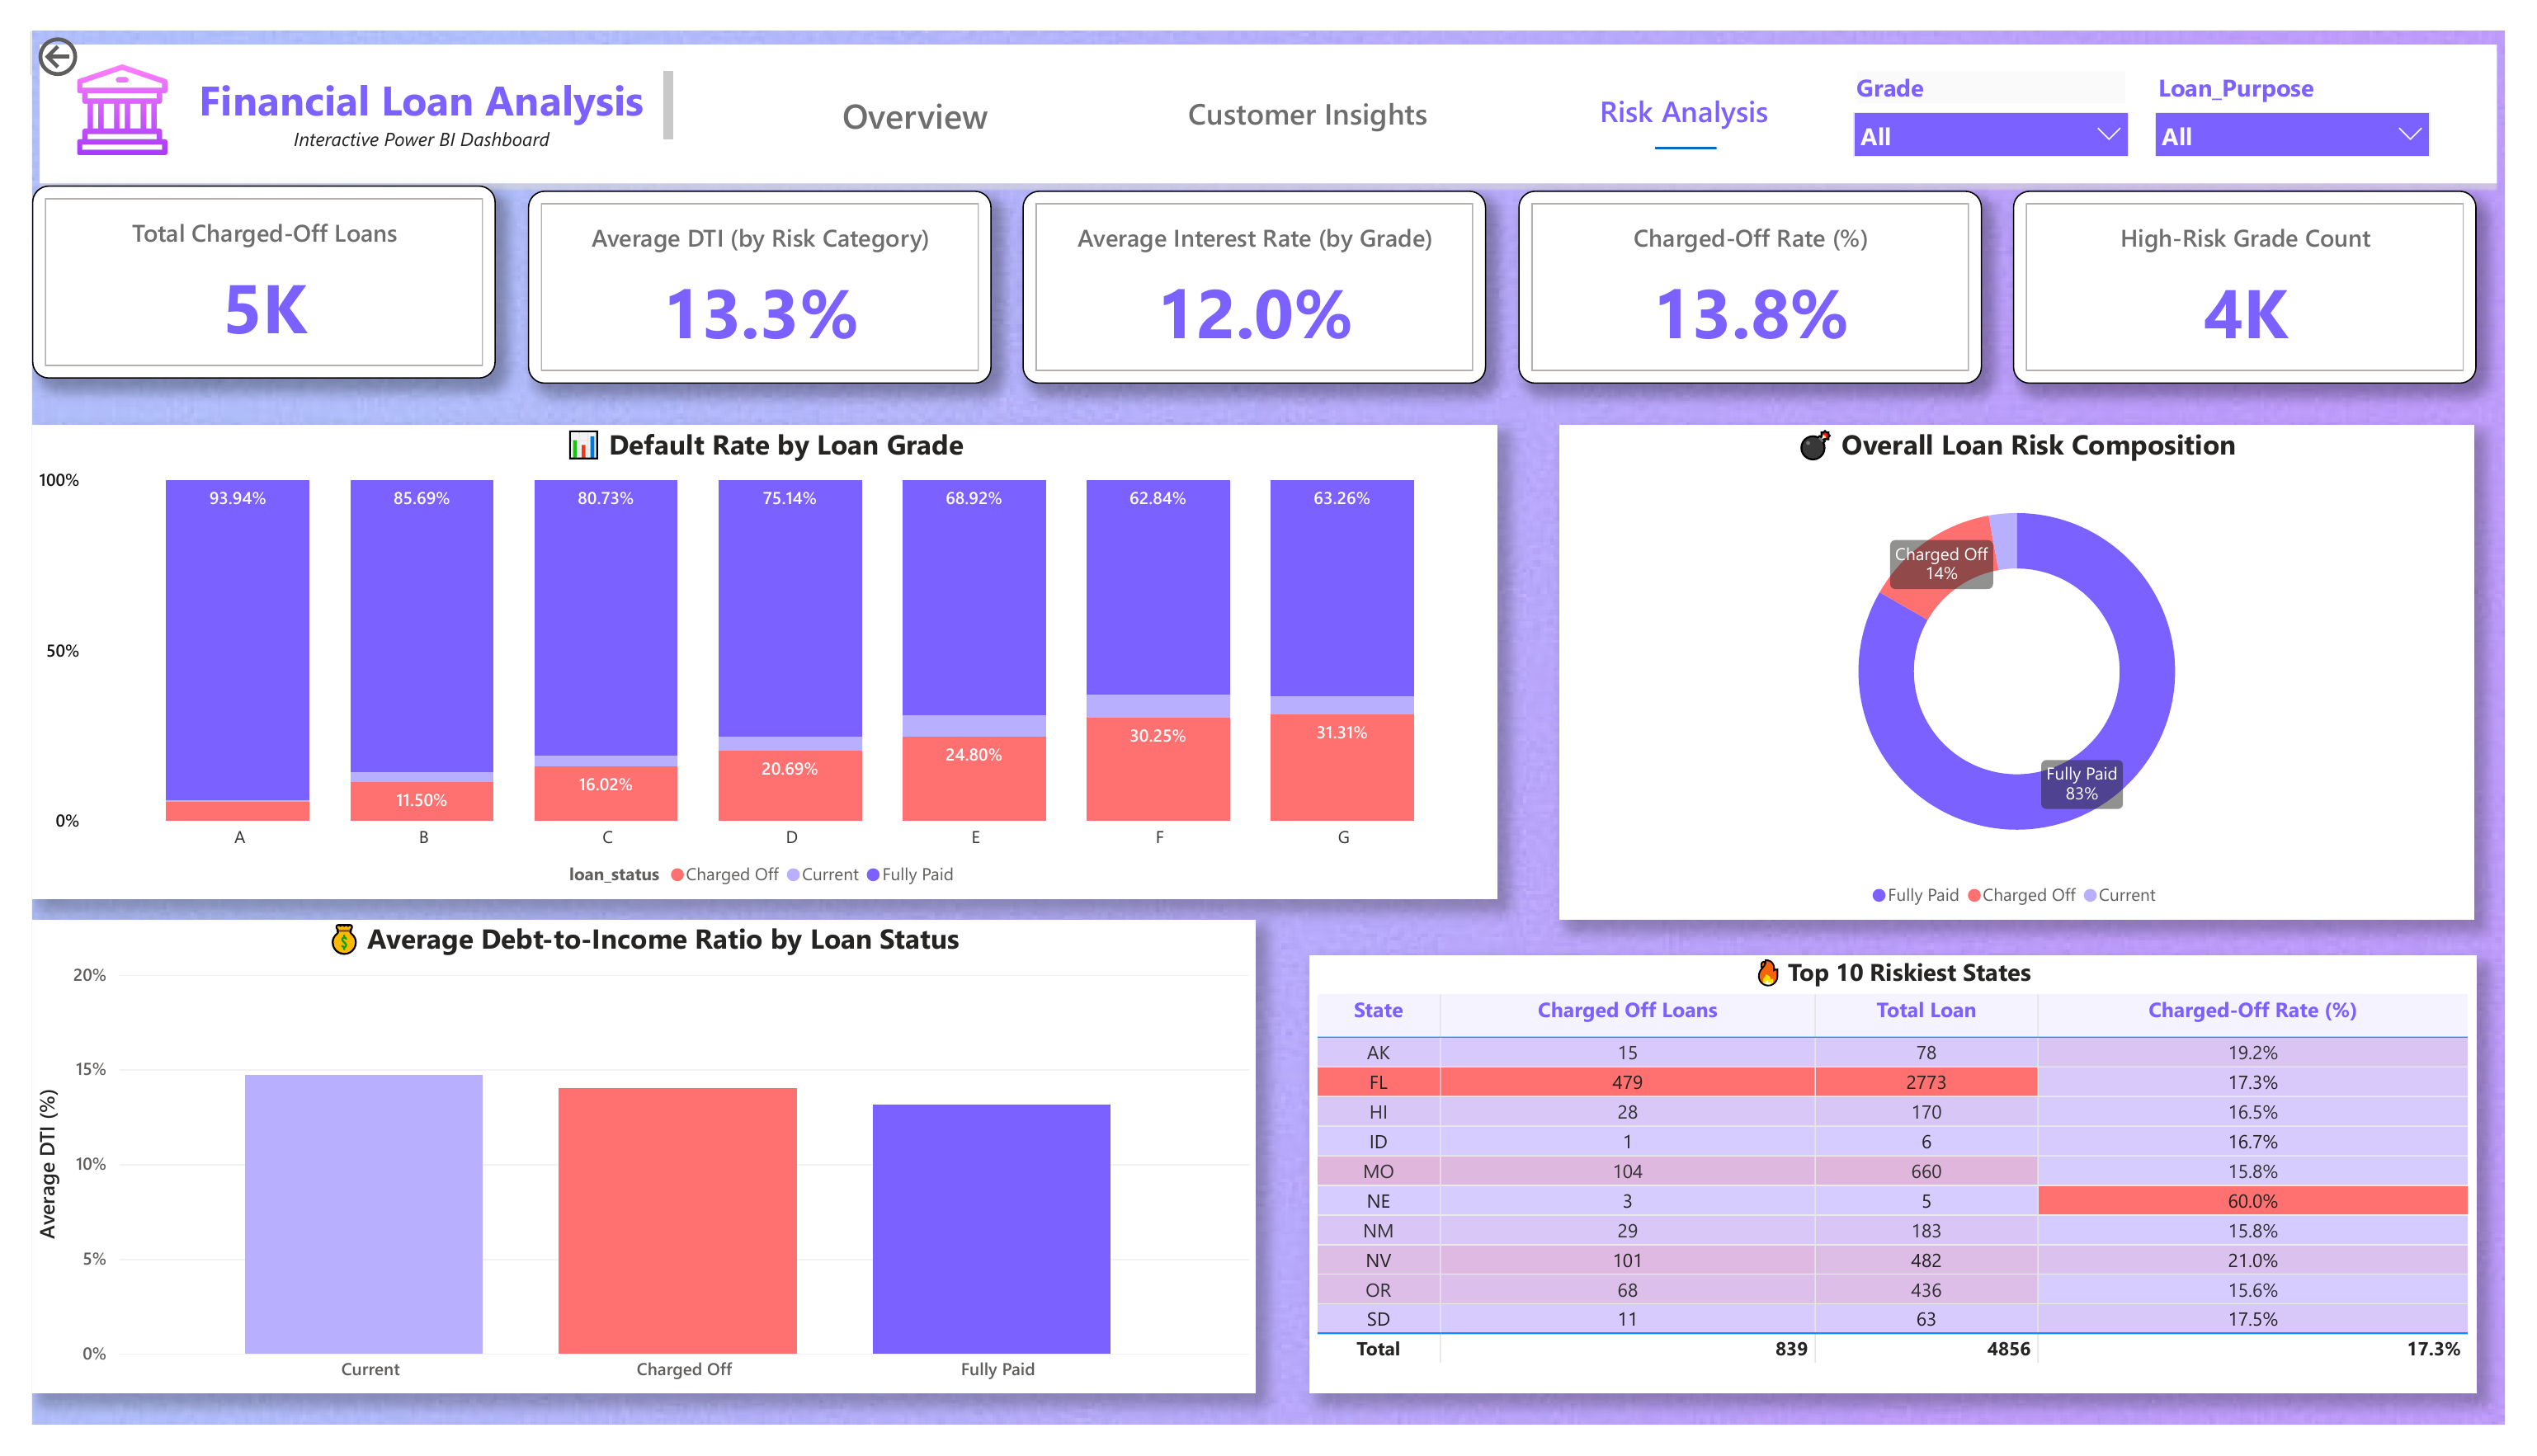

What the dashboard file says about the page in this screenshot:
{"tool":"powerbi","page":{"name":"Risk Analysis","canvas":[1920,1082],"ordinal":2},"visuals":[{"type":"cardVisual","fields":{"Data":["Dax Measures.Average Interest Rate (by Grade)"]},"box":[769,124,360,150],"z":0},{"type":"cardVisual","fields":{"Data":["Dax Measures.Average DTI (by Risk Category)"]},"box":[384.5,124,360,150],"z":1000},{"type":"shape","box":[0,4.1,1920,120],"z":2000},{"type":"image","box":[30.2,21.4,79.8,79.8],"z":3000},{"type":"textbox","box":[110,25.7,392.6,75.5],"z":4000},{"type":"actionButton","box":[621.3,43,129.4,41],"z":5000},{"type":"actionButton","box":[890,44,202,40],"z":6000},{"type":"actionButton","box":[1208,42,150,40],"z":7000},{"type":"shape","box":[1260,84,48,14],"z":8000},{"type":"hundredPercentStackedColumnChart","title":"📊 Default Rate by Loan Grade","fields":{"Category":["financial_loan.grade"],"Series":["financial_loan.loan_status"],"Y":["CountNonNull(financial_loan.loan_status)"]},"box":[0,306,1138,368],"z":9000},{"type":"cardVisual","fields":{"Data":["Dax Measures.Total Charged-Off Loans"]},"box":[0,120,360,150],"z":10000},{"type":"cardVisual","fields":{"Data":["Dax Measures.Charged-Off Rate (%)"]},"box":[1153.5,124,360,150],"z":11000},{"type":"cardVisual","fields":{"Data":["Dax Measures.High-Risk Grade Count"]},"box":[1538,124,360,150],"z":12000},{"type":"donutChart","title":"💣 Overall Loan Risk Composition","fields":{"Y":["CountNonNull(financial_loan.id)"],"Category":["financial_loan.loan_status"]},"box":[1186,306,710,384],"z":13000},{"type":"columnChart","title":"💰 Average Debt-to-Income Ratio by Loan Status","fields":{"Category":["financial_loan.loan_status"],"Y":["Dax Measures.Average DTI"]},"box":[0,690,950,368],"z":14000},{"type":"tableEx","title":"🔥 Top 10 Riskiest States","fields":{"Values":["financial_loan.address_state","Dax Measures.Charged Off Loans","Dax Measures.Total Loan Applications","Dax Measures.Charged-Off Rate (%)"]},"box":[992,718,906,340],"z":15000},{"type":"actionButton","box":[0,0,100,40],"z":16000},{"type":"slicer","fields":{"Values":["financial_loan.grade"]},"box":[1404,26,234,72],"z":17000},{"type":"slicer","fields":{"Values":["financial_loan.purpose"]},"box":[1638,26,234,84],"z":18000}]}

Visuals, with their boxes on the page's 1920x1082 design canvas (x1, y1, x2, y2). These are canvas units, not pixel positions in the 2537x1456 screenshot, which may show the page scaled, cropped or inside an application window:
cardVisual - Dax Measures.Average Interest Rate (by Grade): <box>769,124,1129,274</box>
cardVisual - Dax Measures.Average DTI (by Risk Category): <box>384,124,744,274</box>
shape: <box>0,4,1920,124</box>
image: <box>30,21,110,101</box>
textbox: <box>110,26,503,101</box>
actionButton: <box>621,43,751,84</box>
actionButton: <box>890,44,1092,84</box>
actionButton: <box>1208,42,1358,82</box>
shape: <box>1260,84,1308,98</box>
"📊 Default Rate by Loan Grade" hundredPercentStackedColumnChart: <box>0,306,1138,674</box>
cardVisual - Dax Measures.Total Charged-Off Loans: <box>0,120,360,270</box>
cardVisual - Dax Measures.Charged-Off Rate (%): <box>1154,124,1514,274</box>
cardVisual - Dax Measures.High-Risk Grade Count: <box>1538,124,1898,274</box>
"💣 Overall Loan Risk Composition" donutChart: <box>1186,306,1896,690</box>
"💰 Average Debt-to-Income Ratio by Loan Status" columnChart: <box>0,690,950,1058</box>
"🔥 Top 10 Riskiest States" tableEx: <box>992,718,1898,1058</box>
actionButton: <box>0,0,100,40</box>
slicer - financial_loan.grade: <box>1404,26,1638,98</box>
slicer - financial_loan.purpose: <box>1638,26,1872,110</box>
